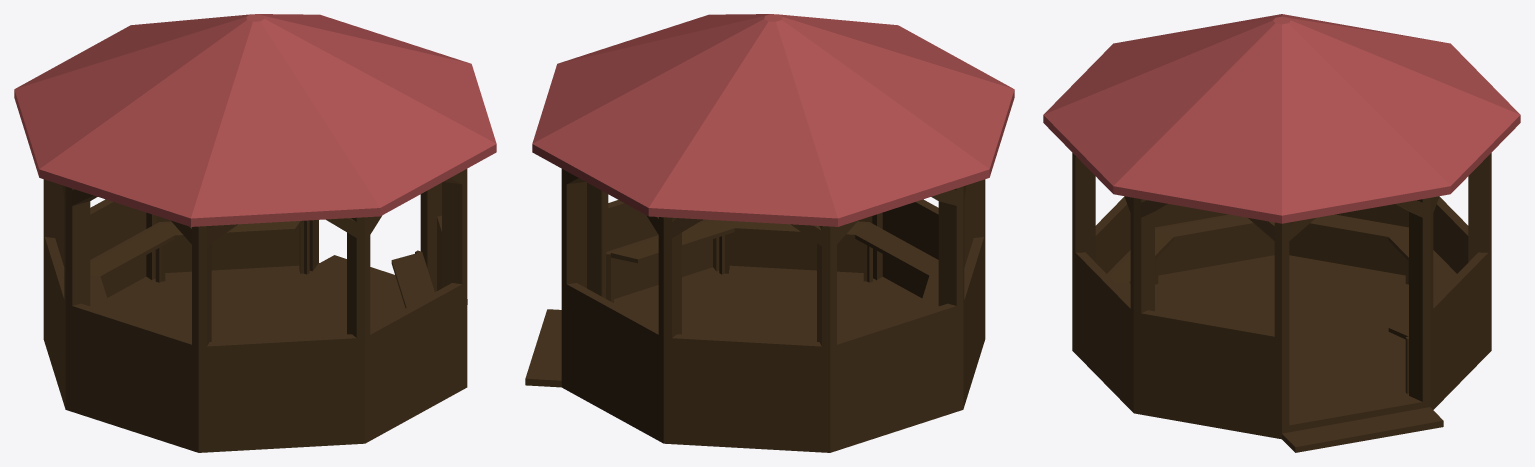
Rendered from Gazebo.fbx.
3 renders of one model, left to right at view 1: azimuth 30°, elevation 25°; view 2: azimuth 150°, elevation 25°; view 3: azimuth 270°, elevation 25°, orthographic. The views are drawn at different scales.
Visible parts, largest first — view 1: Mesh; view 2: Mesh; view 3: Mesh.
Part boxes in pixels (x1,y1,x2,y2): Mesh: (14, 14, 496, 452); Mesh: (525, 14, 1014, 452); Mesh: (1043, 14, 1520, 452).
Bounding box in the file's own units: 3.44 × 2.61 × 3.42.
